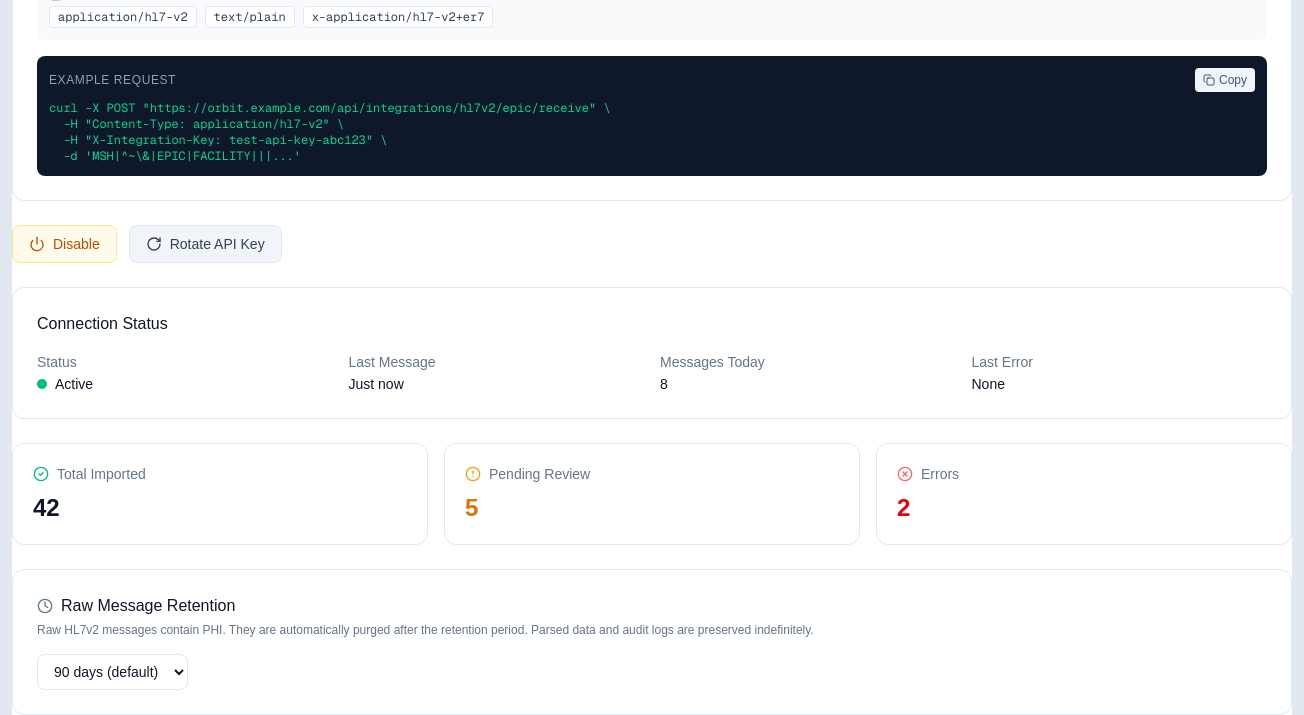
Test: IntegrationOverviewTab › retention policy › disables Save button when actionLoading is "retention"
(page scrolled)
Select "60 days" in the dropdown at (112, 672), box [37, 654, 188, 690]
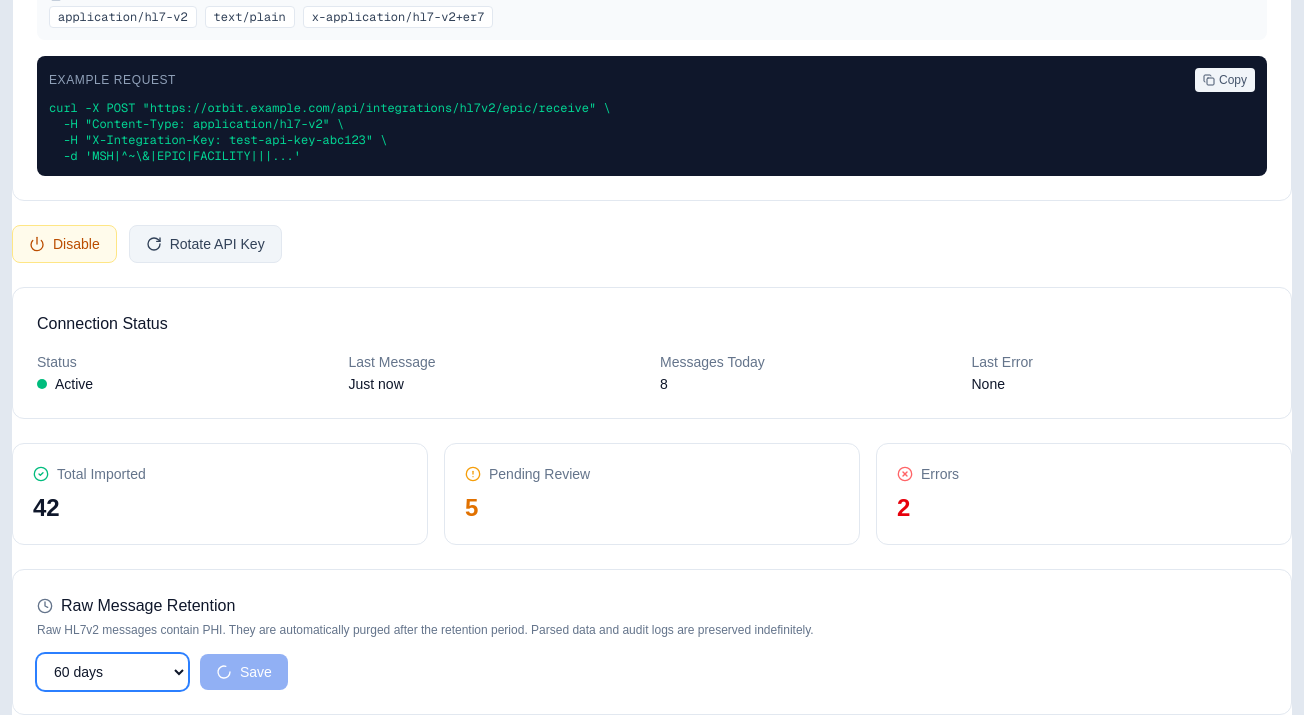
Result: the button "Save" is disabled at [200, 654, 288, 690]
